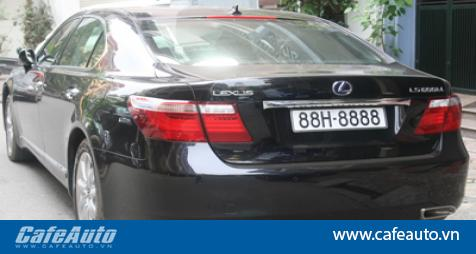numplate: (289, 104, 388, 130)
